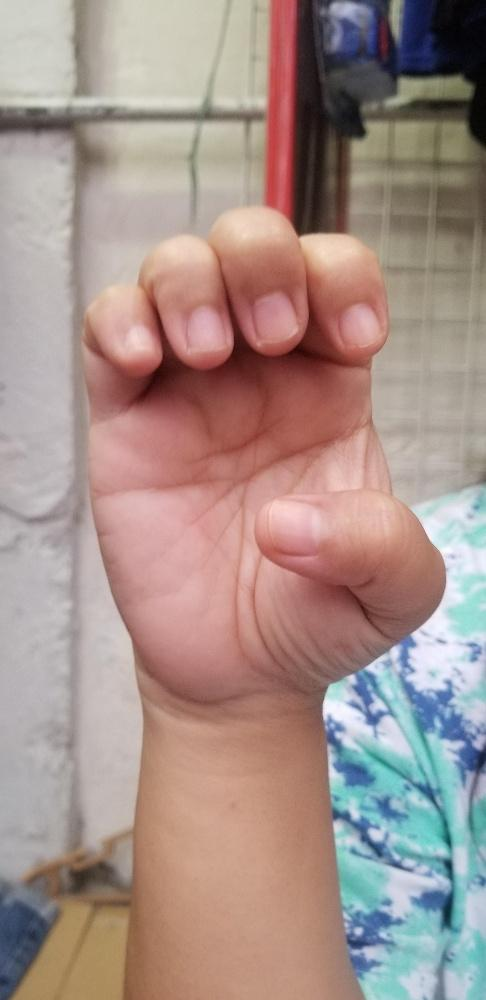e: (81, 205, 447, 687)
